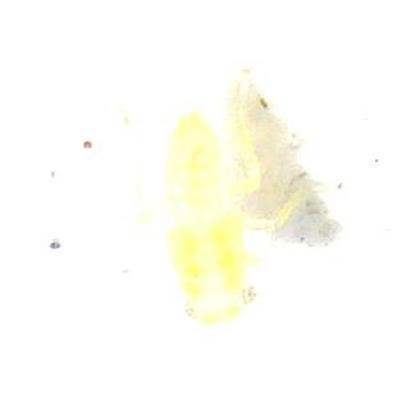green-leafhopper: (155, 102, 279, 326)
